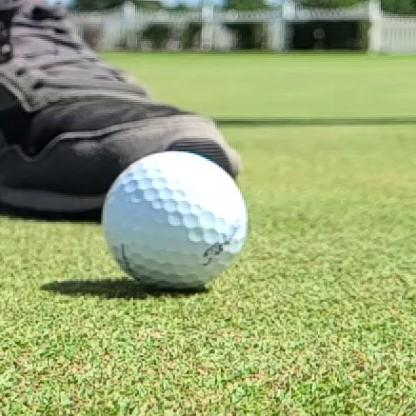golfball: (103, 152, 248, 289)
